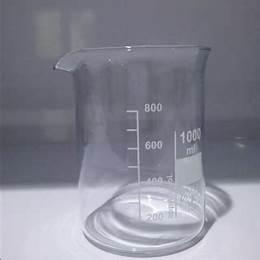Beaker: (49, 42, 225, 255)
